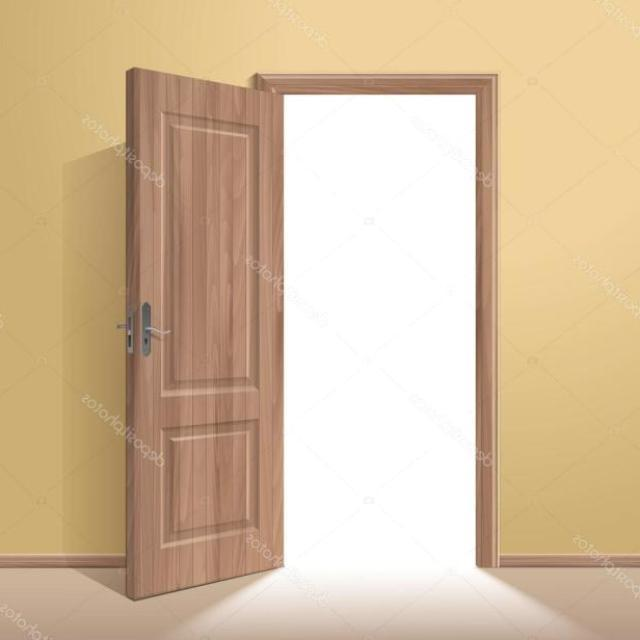door: (123, 65, 285, 600)
